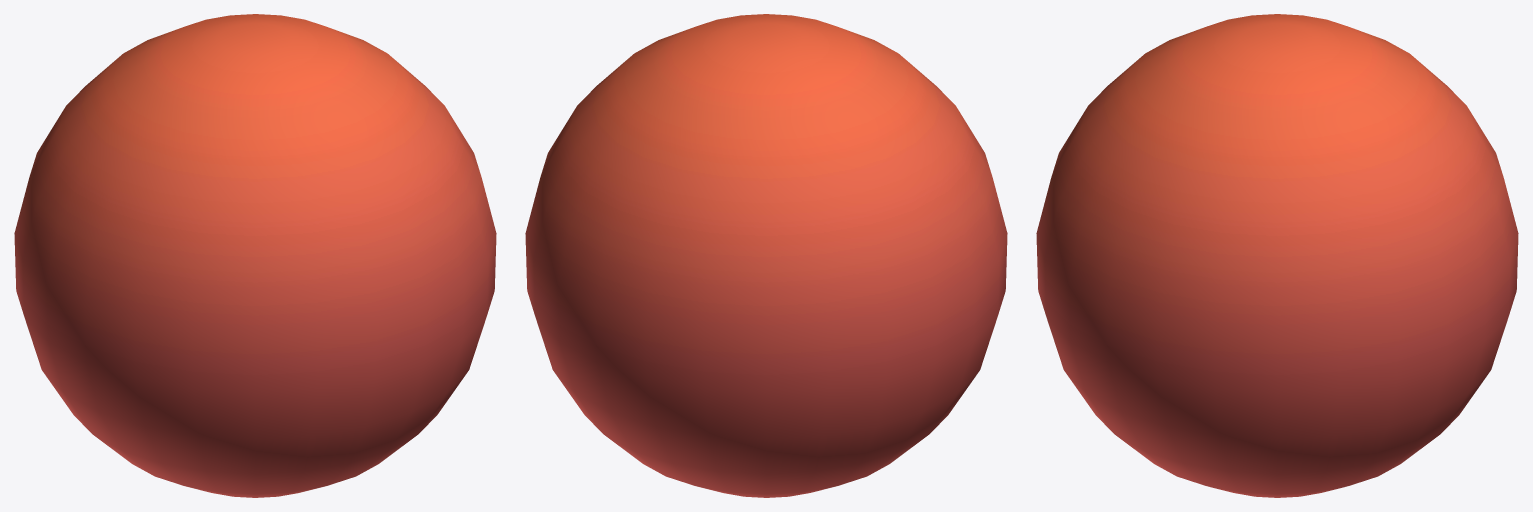
Rendered from golfboll.glb.
The picture shows the model from 3 angles, left to right: view 1: azimuth 30°, elevation 25°; view 2: azimuth 150°, elevation 25°; view 3: azimuth 270°, elevation 25°; orthographic projection.
Parts seen in each view (by area): view 1: ball-red; view 2: ball-red; view 3: ball-red.
Boxes of the visible parts, x1=… form: ball-red: x1=14, y1=14, x2=496, y2=497; ball-red: x1=525, y1=14, x2=1007, y2=497; ball-red: x1=1036, y1=14, x2=1518, y2=497.
Size of the model in its own units: 0.0699 by 0.0697 by 0.0699.
1 material, 1 textured.
